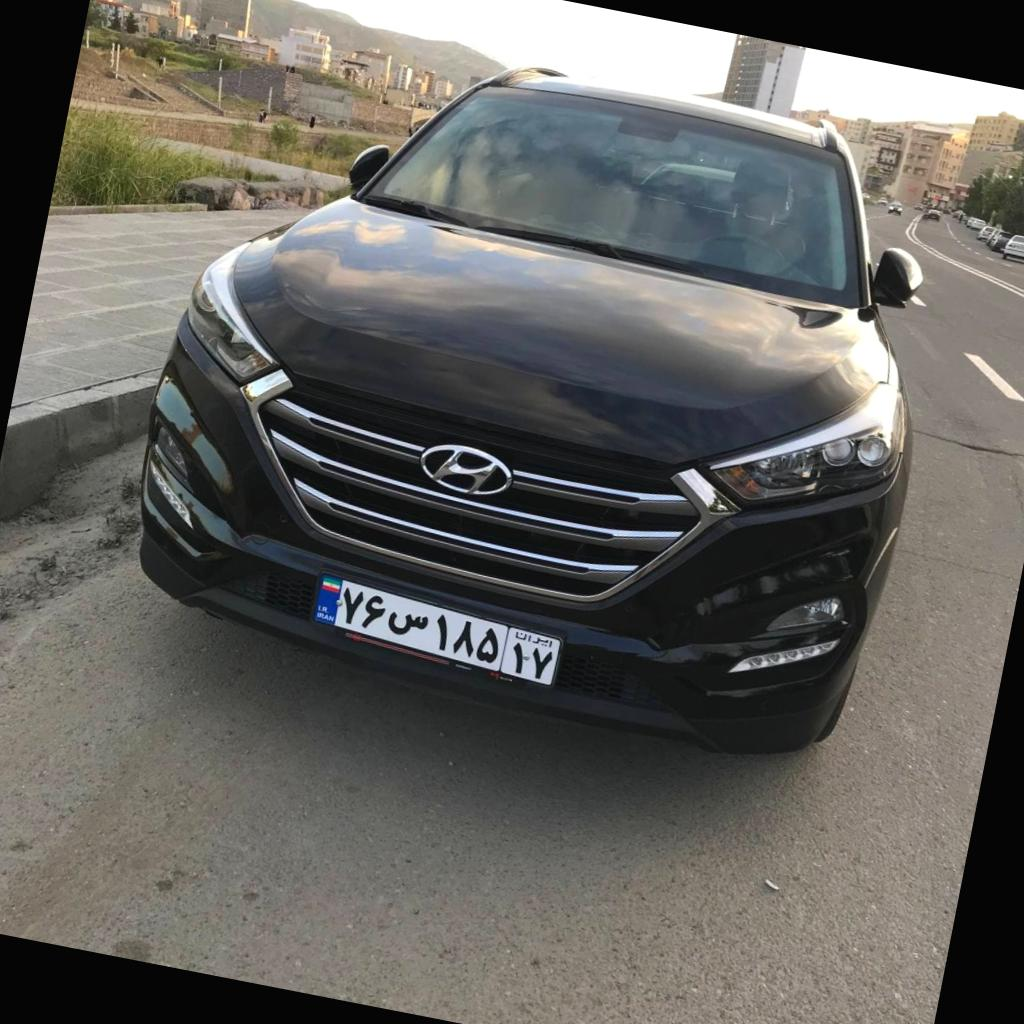Plates: (313, 573, 561, 686)
